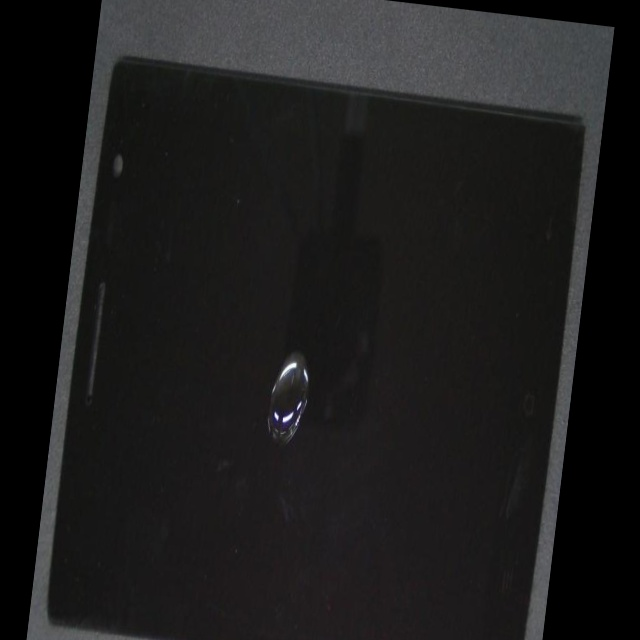oil: (158, 140, 417, 579)
